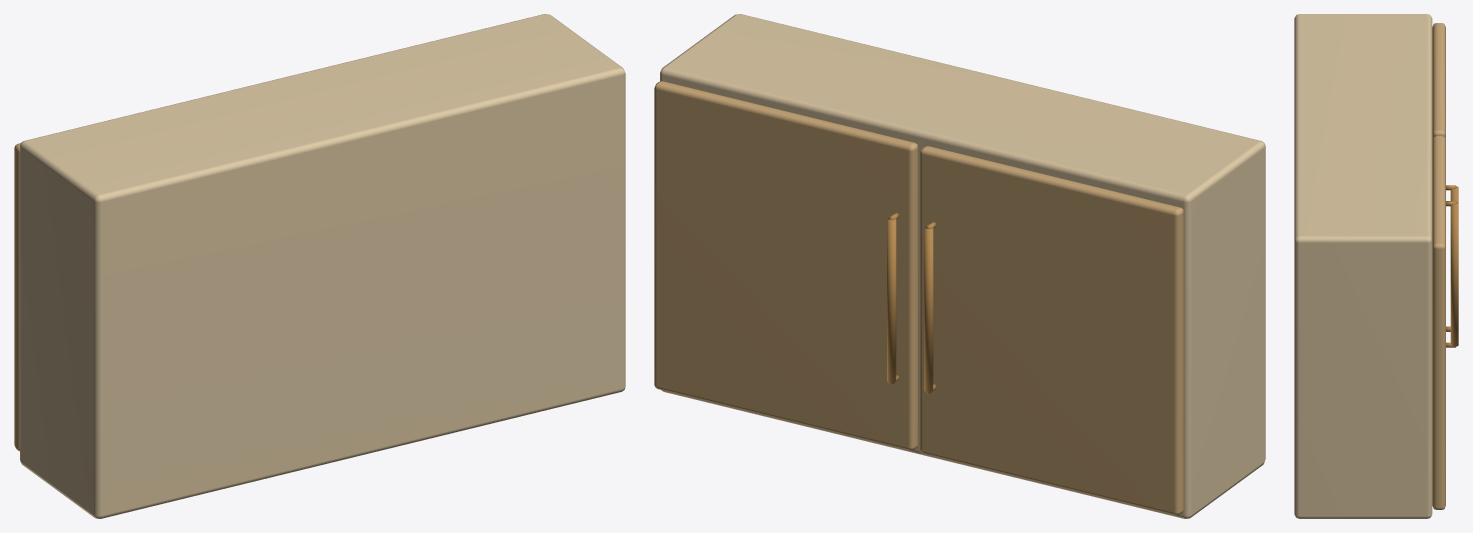
File: upper_cabinet.glb
3 views of the same model, side by side, from view 1: azimuth 30°, elevation 25°; view 2: azimuth 150°, elevation 25°; view 3: azimuth 270°, elevation 25° (orthographic). The views are drawn at different scales.
Visible parts, largest first — view 1: body; view 2: body; view 3: body.
Boxes of the visible parts, x1,y1,x2,y2 form: body: [14, 14, 625, 518]; body: [654, 14, 1265, 518]; body: [1294, 14, 1458, 518].
Bounding box in the file's own units: 1.2 × 0.7 × 0.369.
